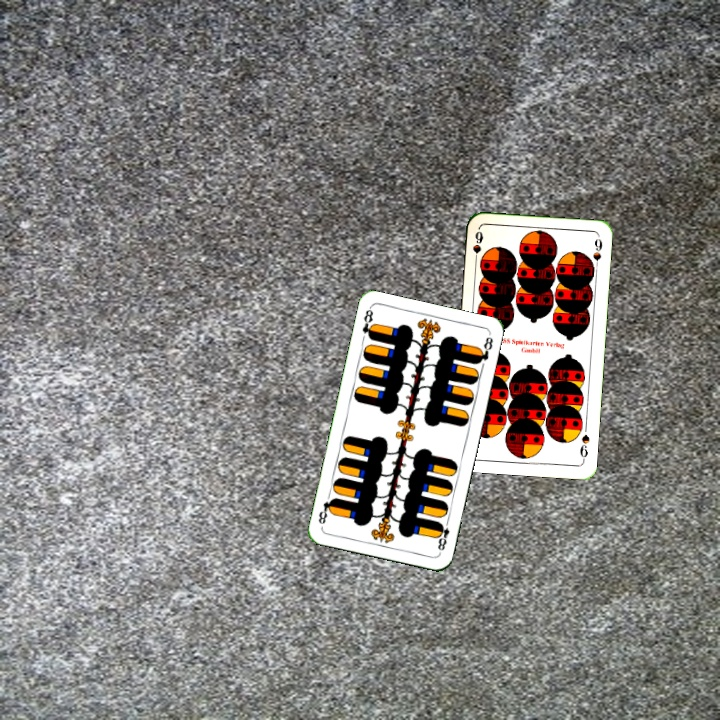E8: (433, 515, 452, 553), (358, 305, 377, 342)
S9: (469, 227, 485, 267), (576, 431, 592, 463)
